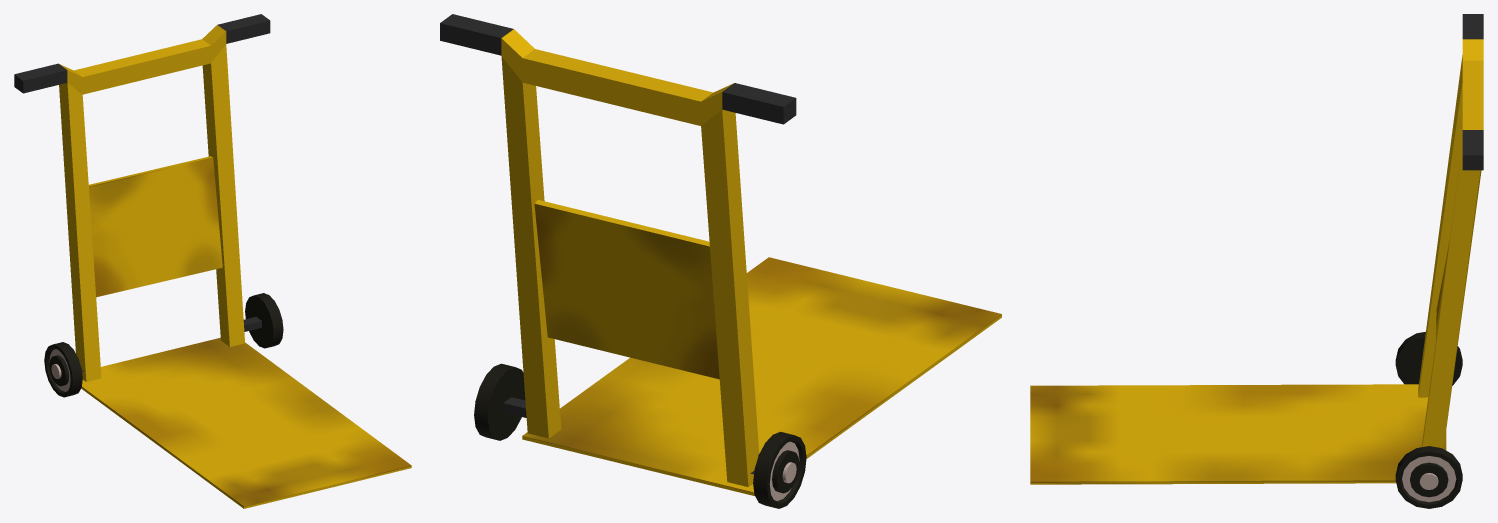
The model's file is Forklift.glb.
3 renders of one model, left to right at view 1: azimuth 30°, elevation 25°; view 2: azimuth 150°, elevation 25°; view 3: azimuth 270°, elevation 25°, orthographic. The views are drawn at different scales.
Parts seen in each view (by area): view 1: Cube, Cube.001, Cube.002, Cylinder; view 2: Cube, Cube.001, Cube.002, Cylinder; view 3: Cube, Cube.001, Cylinder.
Boxes of the visible parts, bbox=[...] form: Cube: bbox=[81, 317, 411, 508]; Cube.001: bbox=[14, 14, 270, 381]; Cube.002: bbox=[88, 156, 222, 297]; Cylinder: bbox=[44, 293, 283, 397]; Cube: bbox=[503, 257, 1001, 495]; Cube.001: bbox=[440, 14, 796, 487]; Cube.002: bbox=[534, 200, 719, 379]; Cylinder: bbox=[474, 363, 806, 508]; Cube: bbox=[1030, 384, 1446, 484]; Cube.001: bbox=[1418, 14, 1483, 448]; Cylinder: bbox=[1395, 331, 1462, 508].
Size of the model in its own units: 0.8489 by 1.01 by 1.15.
Materials: 6 (3 with a texture image).
